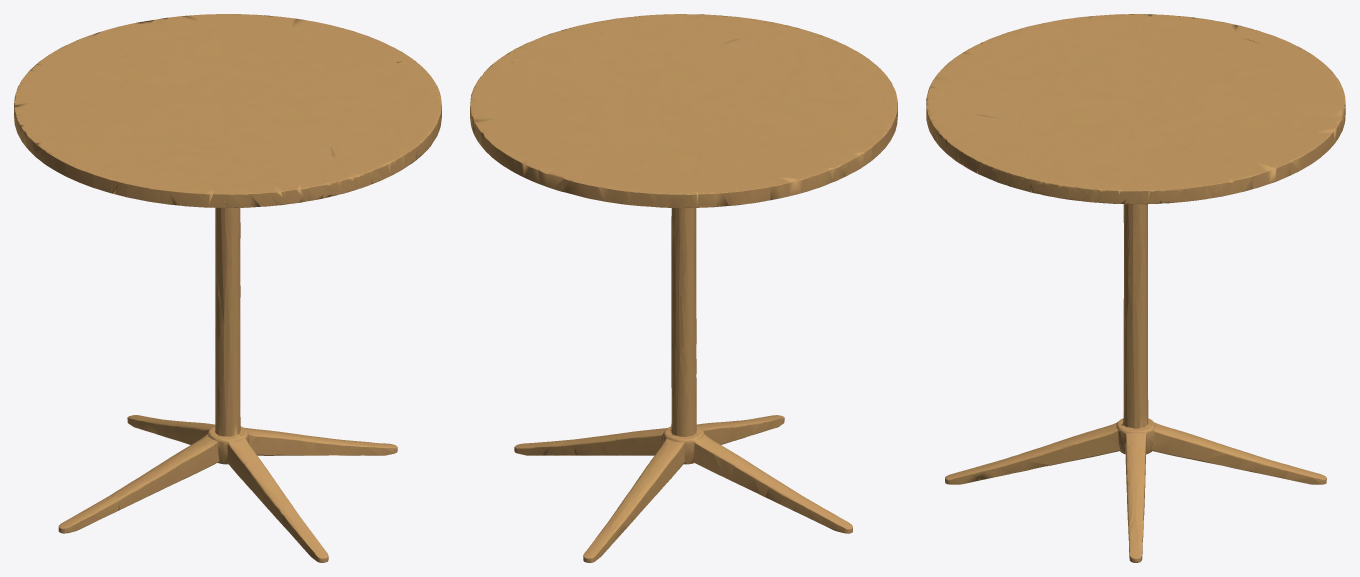
The model's file is side-table-brass-round.glb.
3 renders of one model, left to right at view 1: azimuth 30°, elevation 25°; view 2: azimuth 150°, elevation 25°; view 3: azimuth 270°, elevation 25°, orthographic.
Visible parts, largest first — view 1: mesh_node; view 2: mesh_node; view 3: mesh_node.
Part boxes in pixels (x1,y1,x2,y2): mesh_node: (14,14,441,562); mesh_node: (470,14,897,562); mesh_node: (926,14,1345,562).
Size of the model in its own units: 1.9 by 1.9 by 1.9.
1 material, 1 textured.
